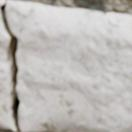broken_brick: (0, 0, 131, 131), (0, 19, 14, 129)
crack: (0, 2, 20, 130)
